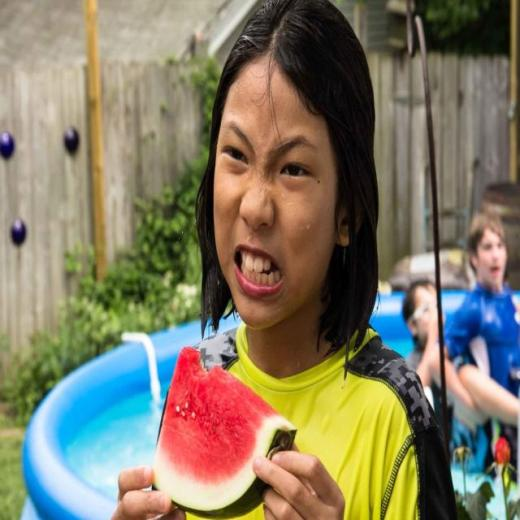Cherry: (150, 344, 298, 520)
